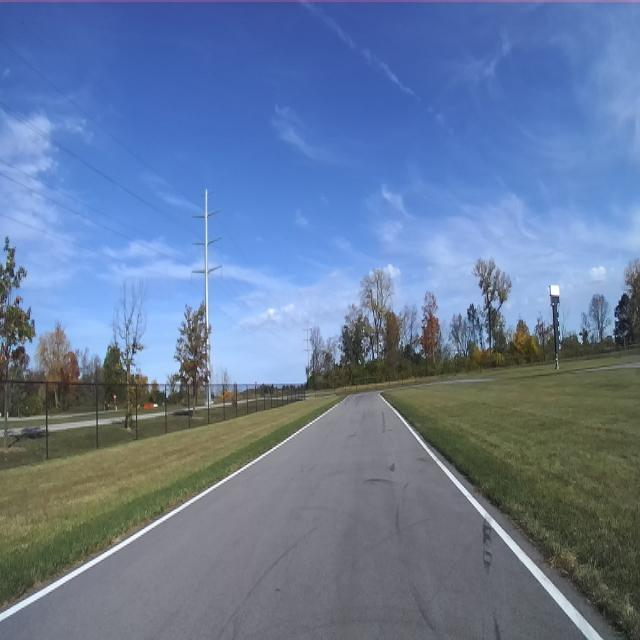white-line: (0, 395, 350, 622), (380, 395, 602, 639)
